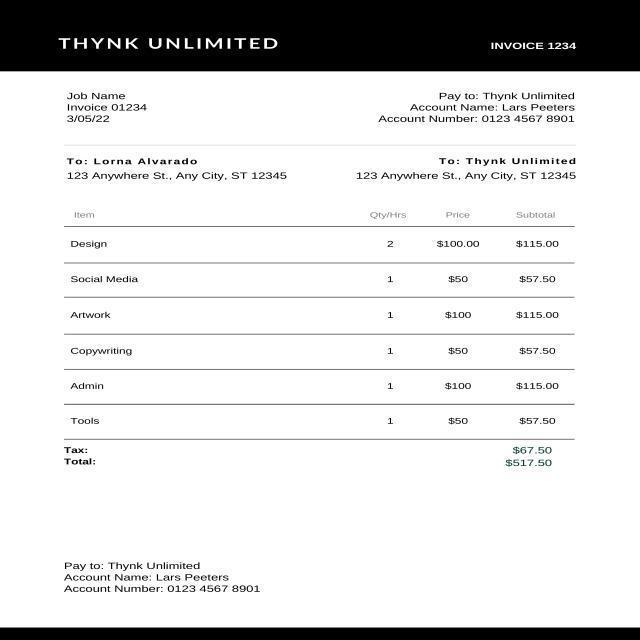ROI: (49, 203, 589, 441), (36, 443, 578, 476), (372, 82, 600, 128), (63, 555, 276, 597), (59, 153, 304, 188), (352, 157, 592, 188), (55, 27, 289, 57), (59, 87, 168, 132), (483, 33, 589, 61)
